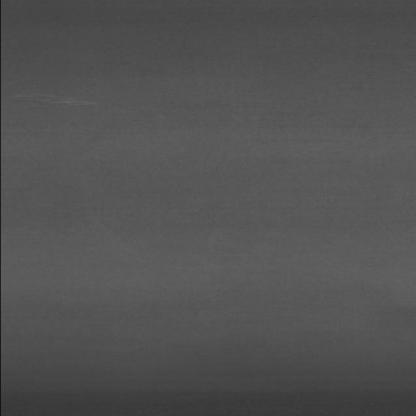silk_spot: (13, 78, 99, 116)
